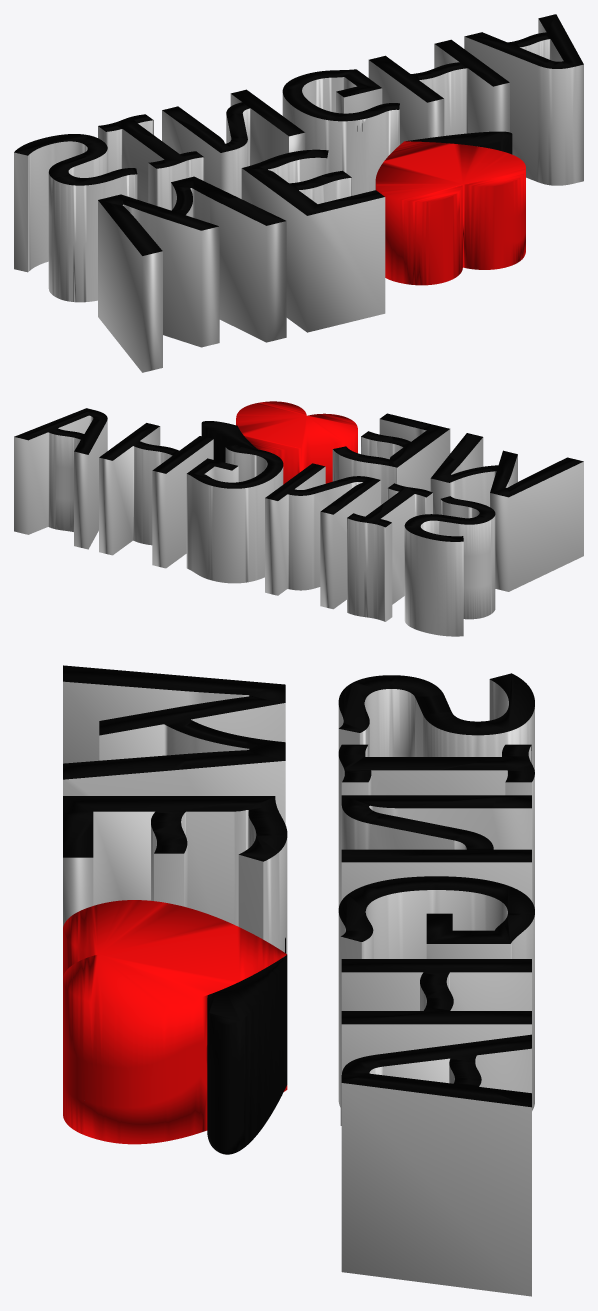
The model's file is WLS.glb.
3 renders of one model, top to bottom at view 1: azimuth 30°, elevation 25°; view 2: azimuth 150°, elevation 25°; view 3: azimuth 270°, elevation 25°, orthographic. The views are drawn at different scales.
Visible parts, largest first — view 1: Part_part_0; view 2: Part_part_0; view 3: Part_part_0.
Boxes of the visible parts, x1,y1,x2,y2 form: Part_part_0: [14, 14, 583, 372]; Part_part_0: [14, 401, 583, 636]; Part_part_0: [63, 665, 534, 1296].
Bounding box in the file's own units: 175 × 35 × 79.14.
